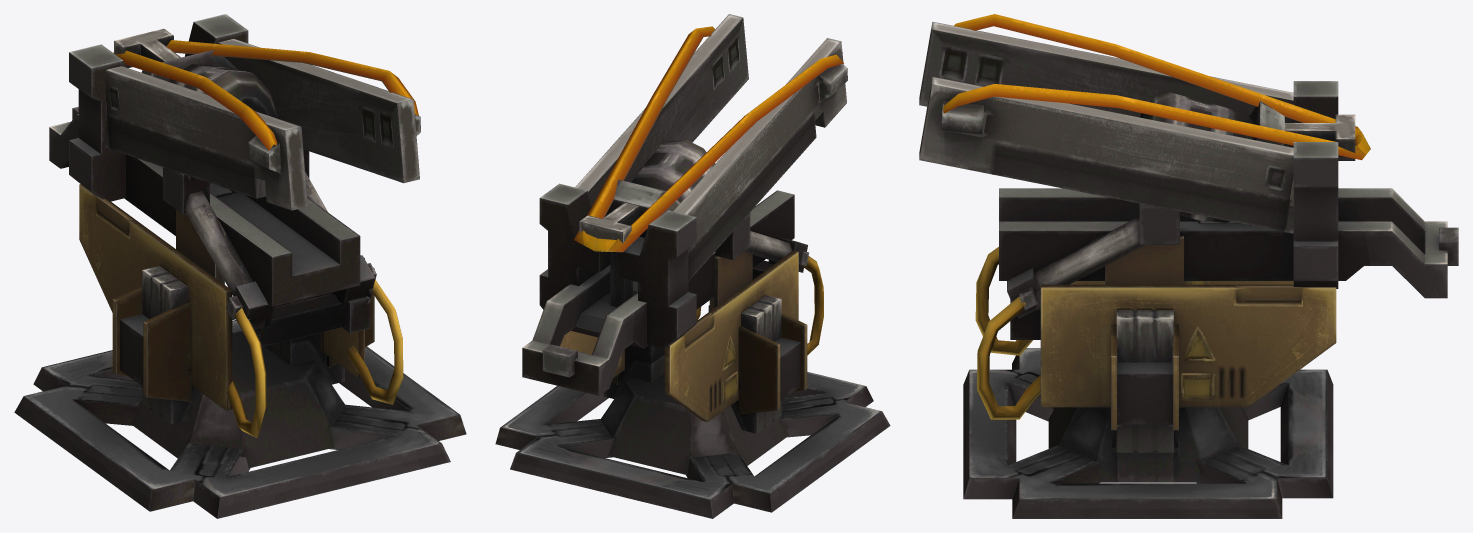
The model's file is S_survive_turret.fbx.
3 views of the same model, side by side, from view 1: azimuth 30°, elevation 25°; view 2: azimuth 150°, elevation 25°; view 3: azimuth 270°, elevation 25° (orthographic). The views are drawn at different scales.
Parts seen in each view (by area): view 1: S_survive_turret; view 2: S_survive_turret; view 3: S_survive_turret.
Part boxes in pixels (bbox=[...]): S_survive_turret: bbox=[14, 14, 466, 518]; S_survive_turret: bbox=[495, 14, 890, 518]; S_survive_turret: bbox=[919, 14, 1458, 518].
Bounding box in the file's own units: 0.8355 × 0.9885 × 1.22.
Materials: 1 (1 with a texture image).
